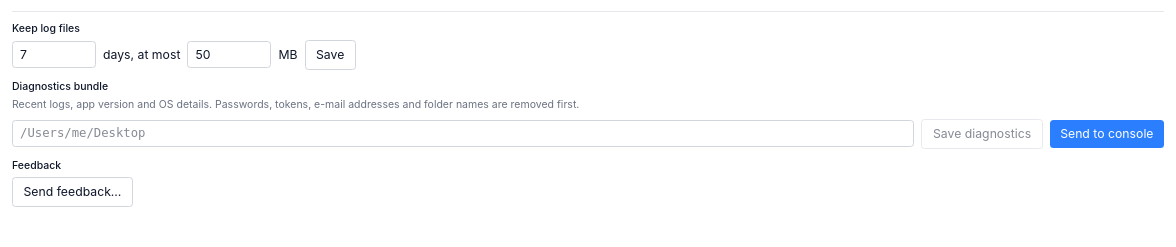
Test case: diagnostics section › sends to the console when registered and shows errors
Step 1. Click the button "Send to console" → (1107, 134), box [1050,120,1164,148]
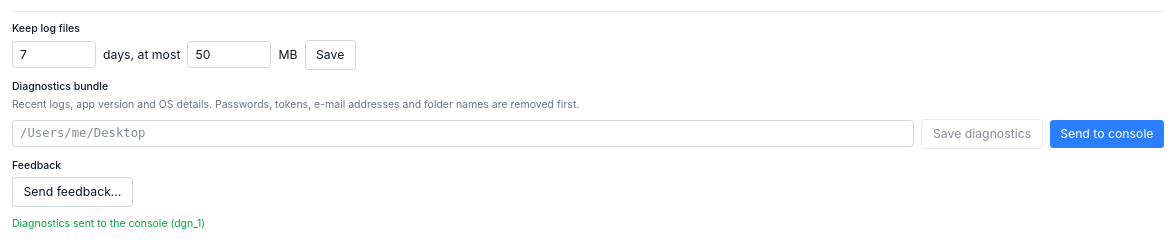
Expected: the text "Diagnostics sent to the console (dgn_1)" is shown, [12,217,205,230]
Step 2. Click the button "Send to console" → (1107, 134), box [1050,120,1164,148]
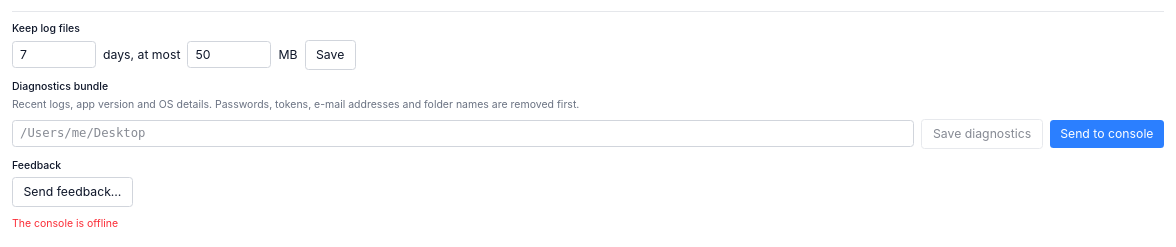
Expected: the text "The console is offline" is shown, [12,217,118,230]
